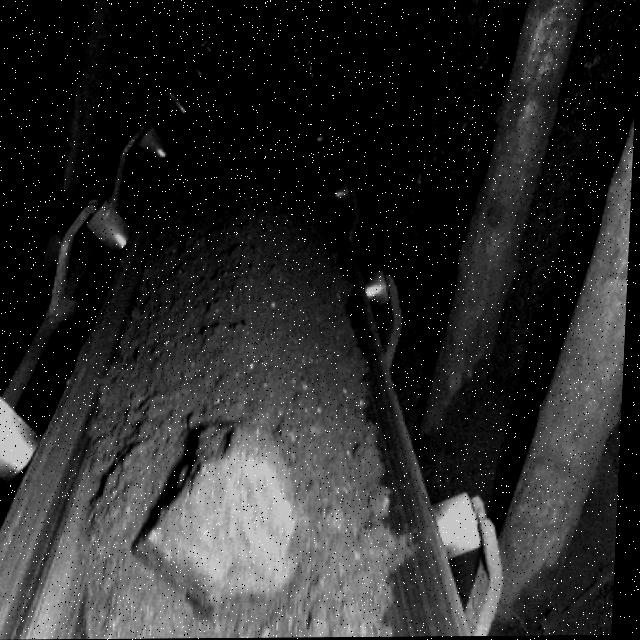large_sized_coal: (131, 420, 311, 613)
